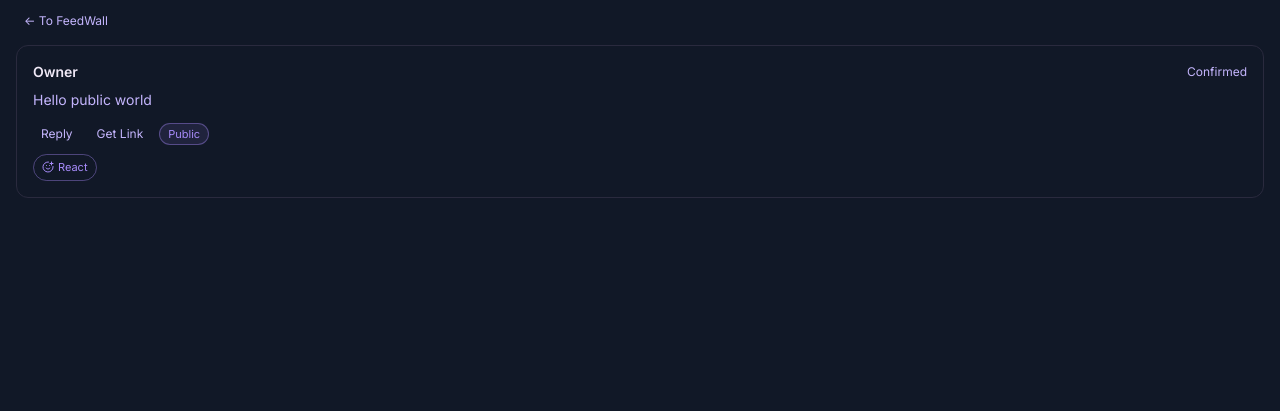
Scenario: SocialPostPermalinkPage › closes the permalink composer when Escape is pressed
Click the button with test id "social-permalink-comment" at (57,134), box [33,122,81,146]
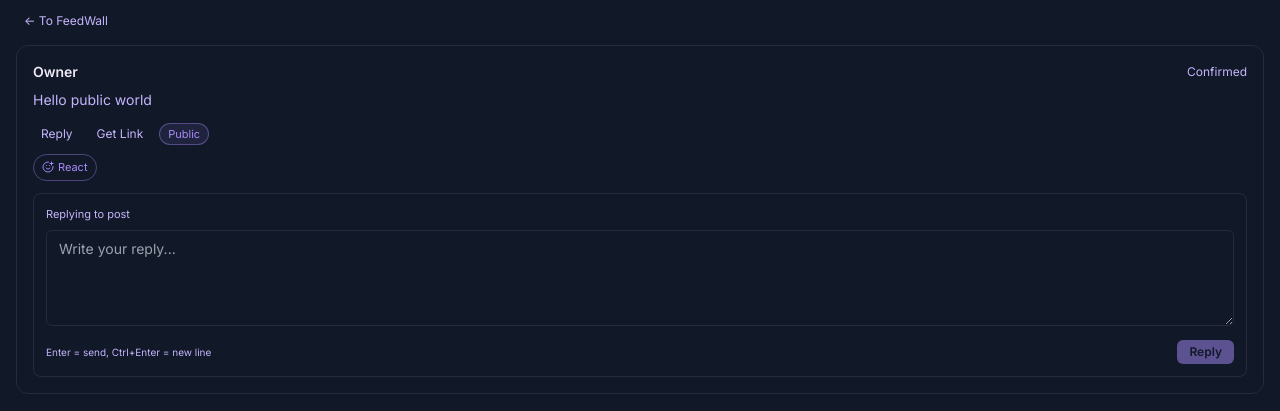
Expected: the element with test id "social-permalink-composer-top" is shown, [33,192,1247,377]
Press Escape in the text box with test id "social-permalink-composer-input", box [46,230,1234,326]
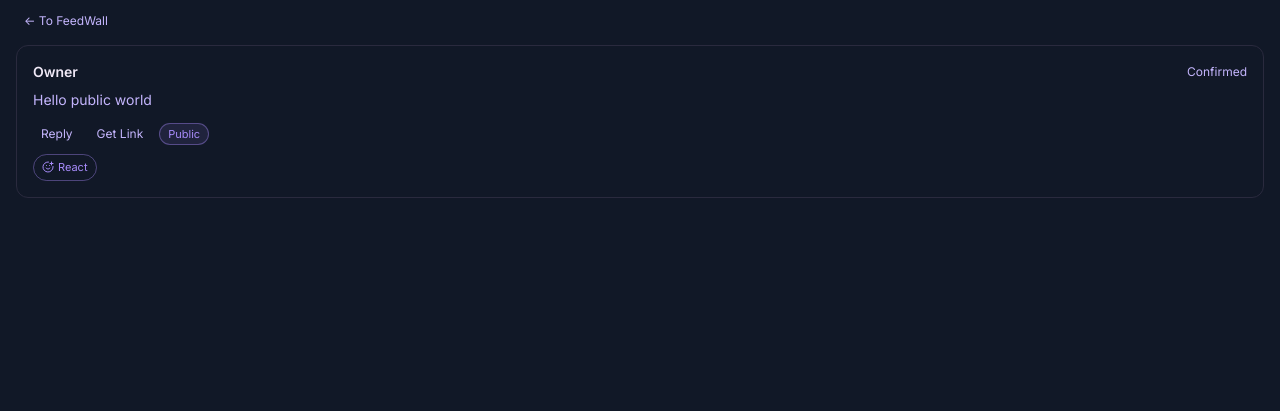
Expected: the element with test id "social-permalink-composer-top" is gone
